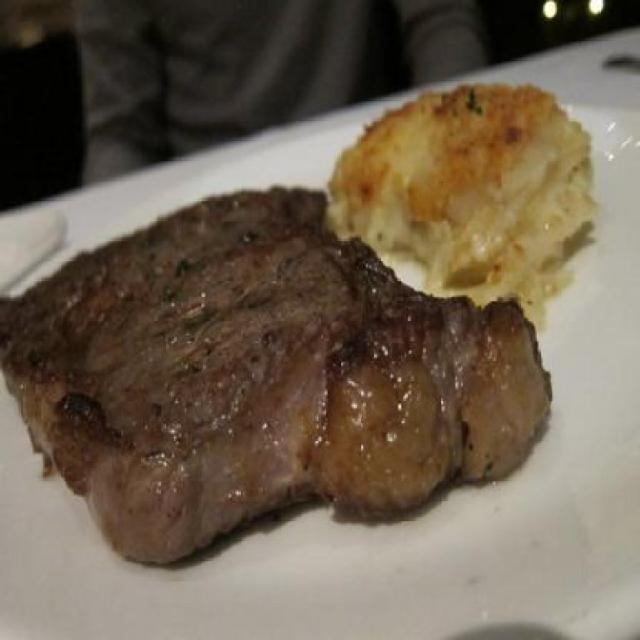Steak: (28, 186, 514, 560)
